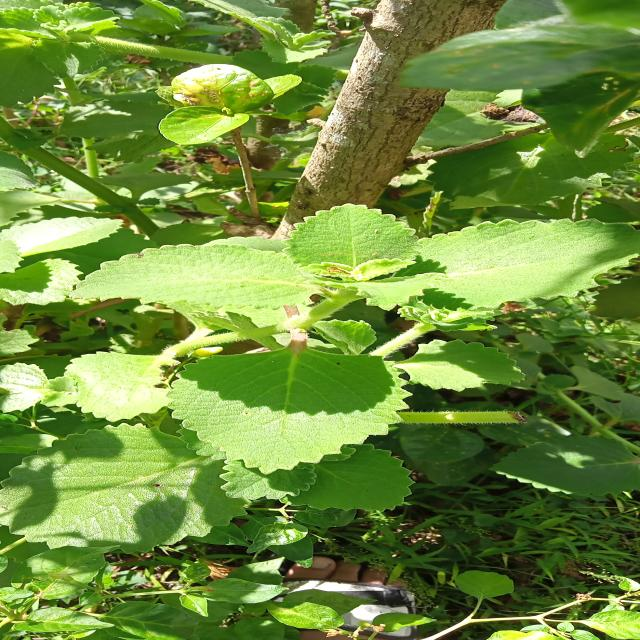Oregano: (0, 172, 640, 554), (131, 314, 452, 514), (87, 236, 387, 362), (356, 203, 640, 332), (227, 183, 482, 309)
